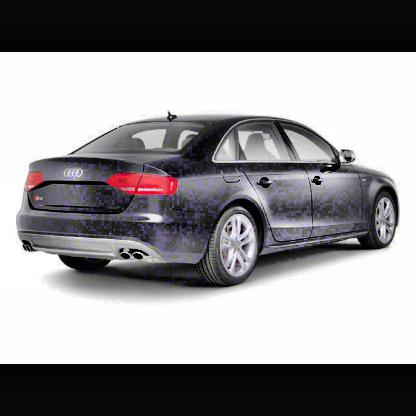Audi S4 Sedan 2012: (16, 110, 403, 290)
